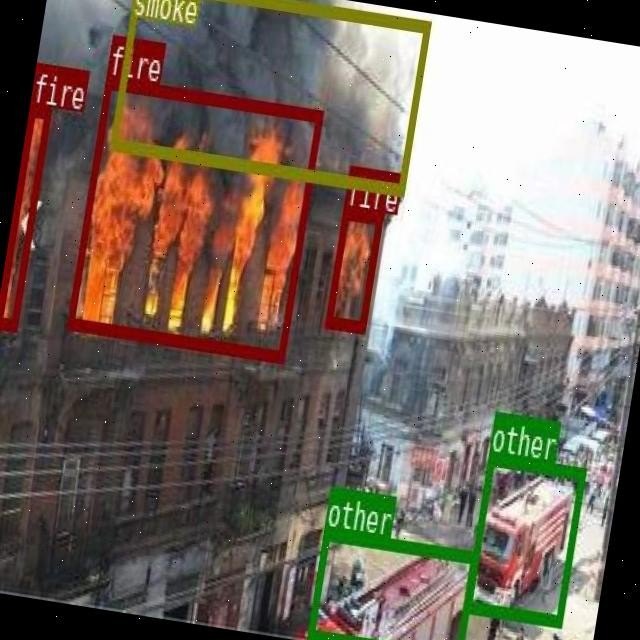fire: (66, 74, 323, 360), (0, 102, 50, 327), (324, 205, 382, 330)
smoke: (109, 0, 430, 194)
